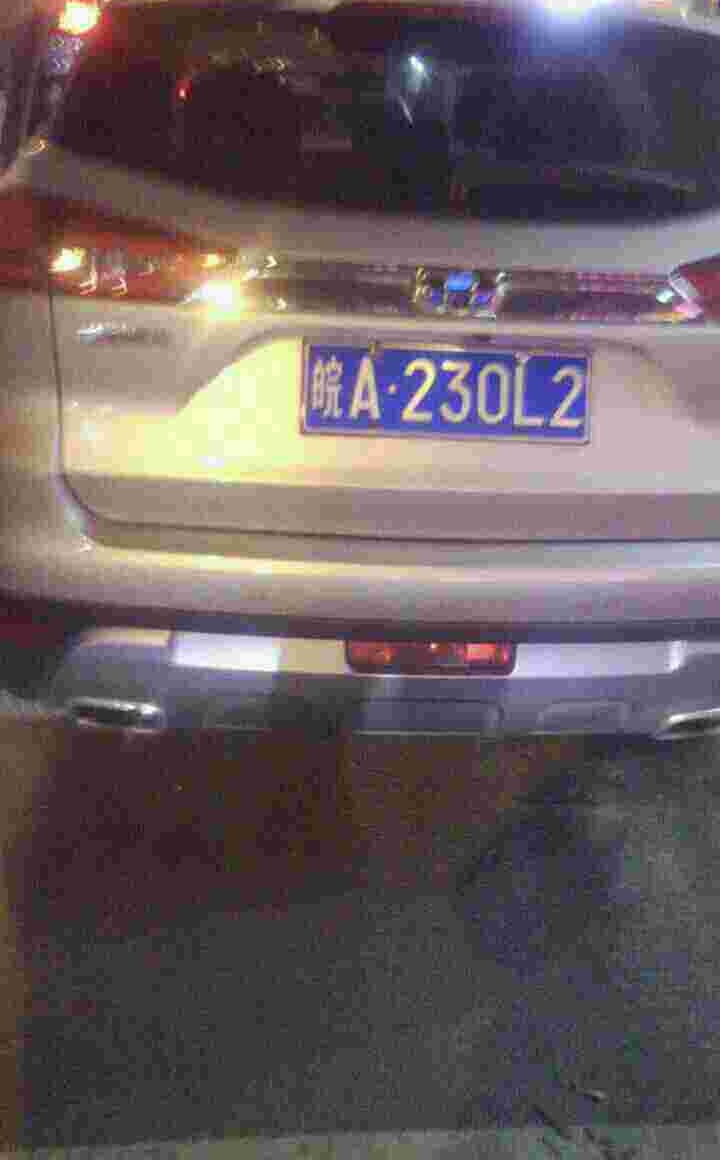license_plate: (309, 342, 597, 444)
